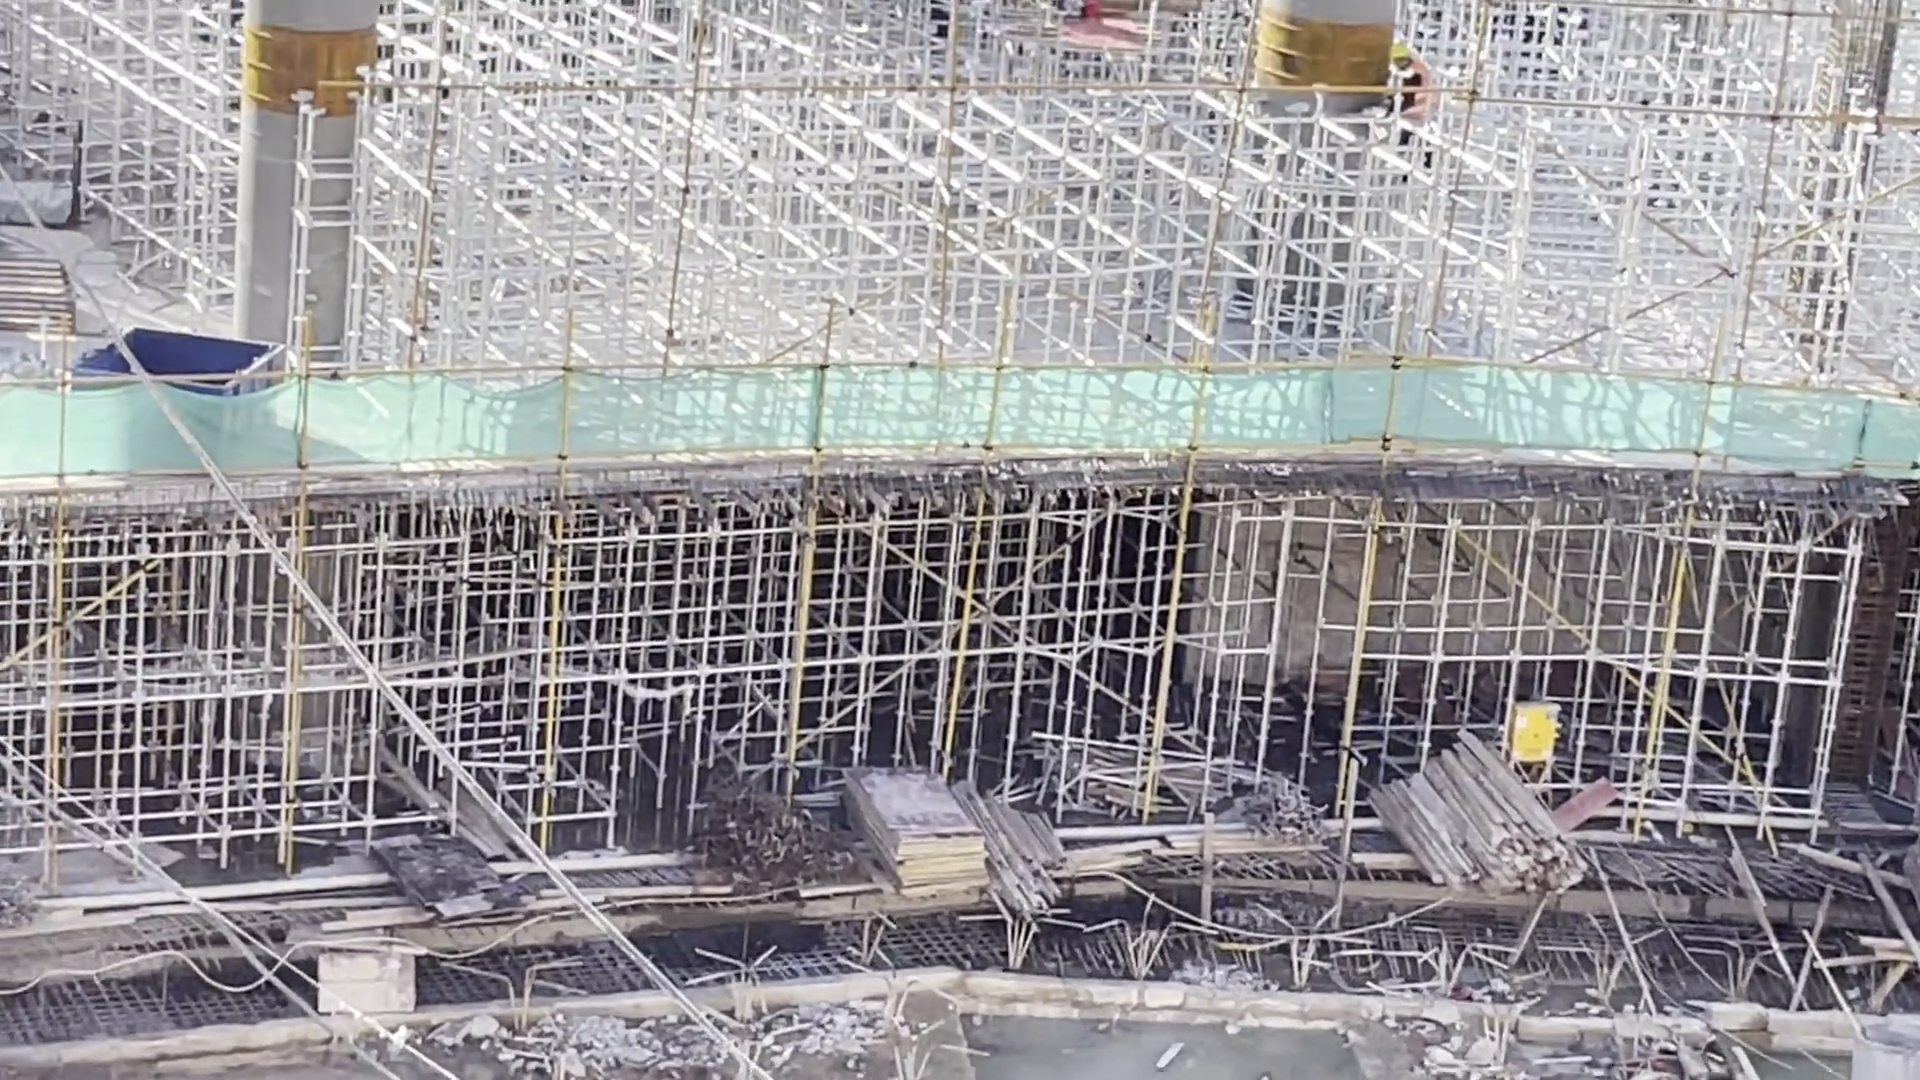board: (851, 751, 995, 895)
ebox: (1508, 694, 1561, 784)
helmet: (1389, 41, 1425, 72)
hopper: (62, 314, 288, 406)
person: (1384, 43, 1432, 150)
vest: (1397, 72, 1441, 123)
wood: (1375, 735, 1580, 910)
